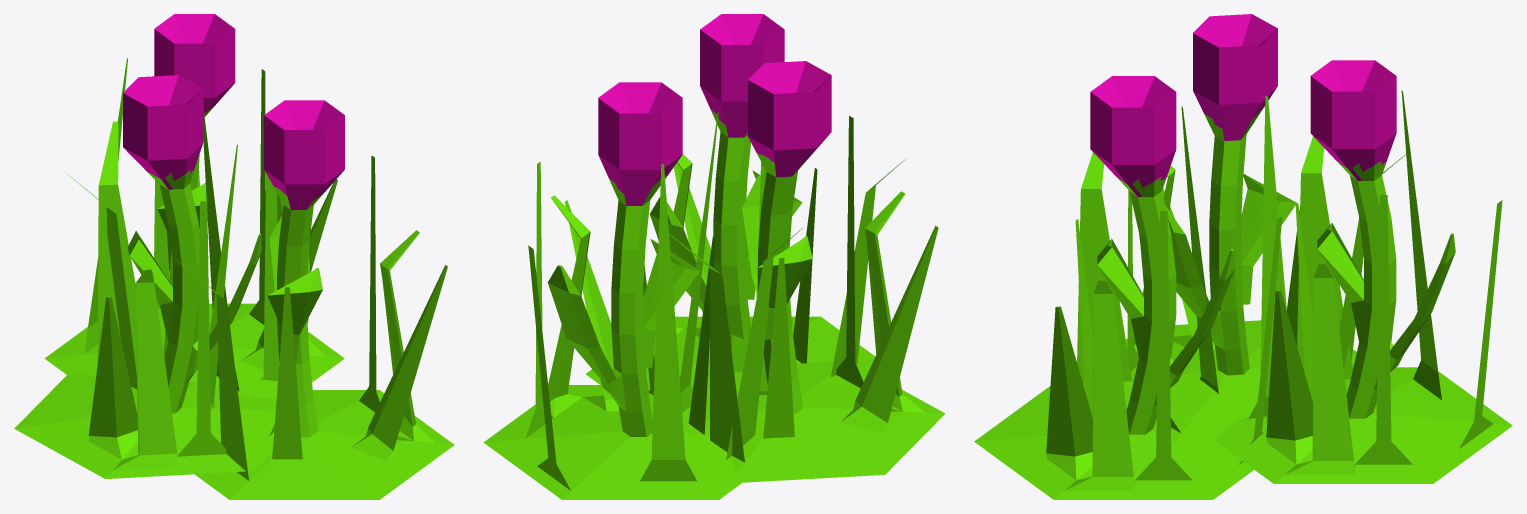
The model's file is FLowers pink.fbx.
The picture shows the model from 3 angles, left to right: view 1: azimuth 30°, elevation 25°; view 2: azimuth 150°, elevation 25°; view 3: azimuth 270°, elevation 25°; orthographic projection. The views are drawn at different scales.
Parts seen in each view (by area): view 1: Cylinder.002, Cylinder.001, Cylinder; view 2: Cylinder, Cylinder.002, Cylinder.001; view 3: Cylinder, Cylinder.001, Cylinder.002.
Part boxes in pixels (box(x1,y1,x2,y2)): Cylinder.002: box(14, 75, 299, 479); Cylinder.001: box(176, 100, 454, 499); Cylinder: box(45, 14, 344, 398); Cylinder: box(483, 82, 802, 499); Cylinder.002: box(668, 61, 945, 482); Cylinder.001: box(585, 14, 905, 395); Cylinder: box(1214, 60, 1512, 483); Cylinder.001: box(974, 76, 1282, 499); Cylinder.002: box(1083, 14, 1406, 442).
Size of the model in its own units: 248 by 248 by 334.
